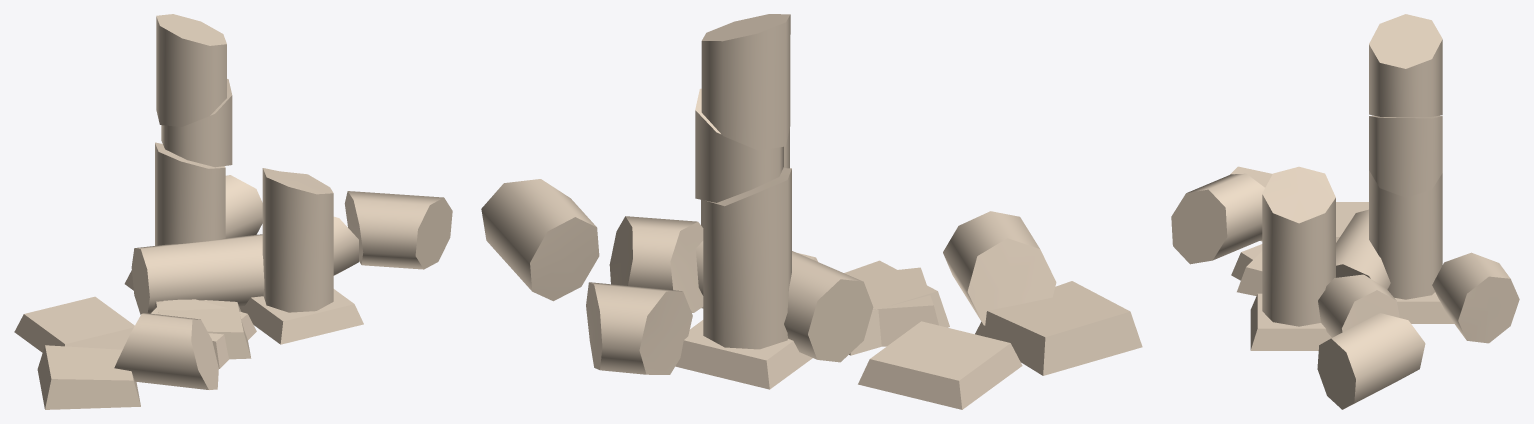
Rendered from Decorative_Elements.fbx.
3 views of the same model, side by side, from view 1: azimuth 30°, elevation 25°; view 2: azimuth 150°, elevation 25°; view 3: azimuth 270°, elevation 25° (orthographic). The views are drawn at different scales.
Visible parts, largest first — view 1: Column03, Column02, Column01; view 2: Column03, Column01, Column02; view 3: Column02, Column01, Column03.
Boxes of the visible parts, x1,y1,x2,y2 form: Column03: (14,191,452,409); Column02: (114,168,363,389); Column01: (124,14,251,359); Column03: (481,179,1142,409); Column01: (675,14,949,389); Column02: (586,128,1056,374); Column02: (1171,166,1519,350); Column01: (1237,14,1453,323); Column03: (1230,166,1425,409).
Size of the model in its own units: 8.18 by 4.56 by 5.24.
